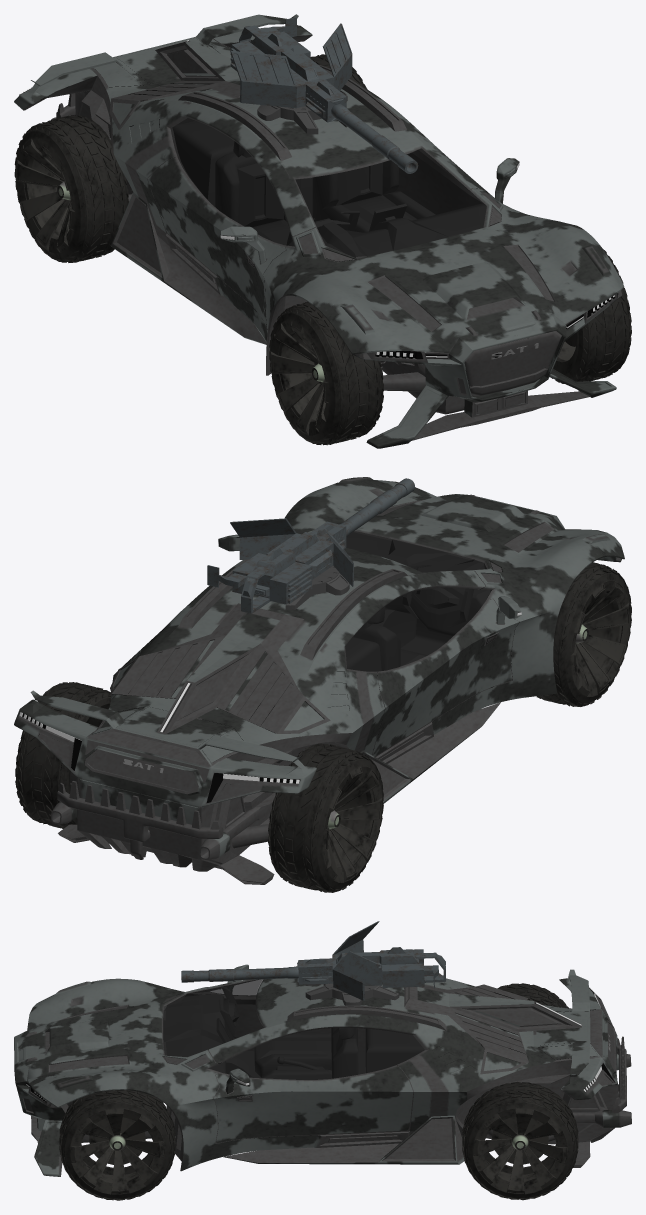
The model's file is SAT 1.fbx.
3 views of the same model, one above another, from view 1: azimuth 30°, elevation 25°; view 2: azimuth 150°, elevation 25°; view 3: azimuth 270°, elevation 25° (orthographic). The views are drawn at different scales.
Parts seen in each view (by area): view 1: SURVIVAL AMORED TRUCK 1, SAT 1 interior, SAT 1 rear right wheel, SAT 1 Windscreen, SAT 1 front right wheel, SAT 1 gun, SAT 1 Door glass, SAT 1 front left wheel, SAT 1 gun hub; view 2: SURVIVAL AMORED TRUCK 1, SAT 1 rear right wheel, SAT 1 interior, SAT 1 gun, SAT 1 front right wheel, SAT 1 Door glass, SAT 1 rear left wheel, SAT 1 Windscreen, SAT 1 brake light, SAT 1 gun hub; view 3: SURVIVAL AMORED TRUCK 1, SAT 1 interior, SAT 1 rear left wheel, SAT 1 front left wheel, SAT 1 Door glass, SAT 1 gun, SAT 1 Windscreen, SAT 1 gun hub, SAT 1 rear right wheel.
Boxes of the visible parts, left/top/right/bottom form: SURVIVAL AMORED TRUCK 1: left=14, top=14, right=624, bottom=448; SAT 1 interior: left=172, top=120, right=486, bottom=258; SAT 1 rear right wheel: left=14, top=115, right=128, bottom=262; SAT 1 Windscreen: left=296, top=148, right=486, bottom=257; SAT 1 front right wheel: left=269, top=301, right=383, bottom=445; SAT 1 gun: left=230, top=17, right=418, bottom=173; SAT 1 Door glass: left=171, top=118, right=294, bottom=246; SAT 1 front left wheel: left=552, top=249, right=631, bottom=383; SAT 1 gun hub: left=257, top=90, right=347, bottom=134; SURVIVAL AMORED TRUCK 1: left=14, top=477, right=624, bottom=884; SAT 1 rear right wheel: left=268, top=743, right=383, bottom=892; SAT 1 interior: left=345, top=532, right=490, bottom=671; SAT 1 gun: left=207, top=478, right=414, bottom=613; SAT 1 front right wheel: left=537, top=562, right=631, bottom=706; SAT 1 Door glass: left=345, top=587, right=491, bottom=671; SAT 1 rear left wheel: left=15, top=682, right=110, bottom=828; SAT 1 Windscreen: left=346, top=531, right=486, bottom=572; SAT 1 brake light: left=19, top=712, right=300, bottom=802; SAT 1 gun hub: left=285, top=565, right=349, bottom=610; SURVIVAL AMORED TRUCK 1: left=14, top=964, right=631, bottom=1176; SAT 1 interior: left=163, top=987, right=424, bottom=1079; SAT 1 rear left wheel: left=462, top=1081, right=578, bottom=1200; SAT 1 front left wheel: left=59, top=1090, right=175, bottom=1200; SAT 1 Door glass: left=210, top=979, right=424, bottom=1079; SAT 1 gun: left=181, top=921, right=445, bottom=1000; SAT 1 Windscreen: left=163, top=979, right=263, bottom=1056; SAT 1 gun hub: left=305, top=982, right=399, bottom=1005; SAT 1 rear right wheel: left=497, top=983, right=568, bottom=1008.
Bounding box in the file's own units: 336 × 260 × 723.
